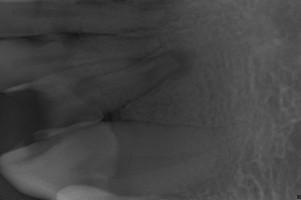Furcation Involvement: (167, 50, 195, 79)
